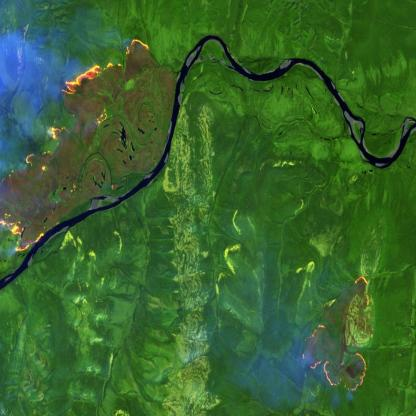fire: (0, 34, 150, 254), (300, 273, 376, 393)
